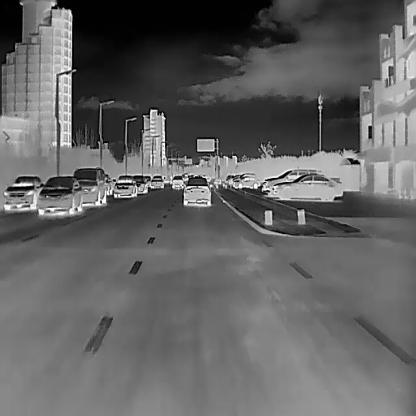car: (271, 173, 343, 201), (36, 175, 81, 214), (2, 172, 41, 212), (72, 165, 107, 205), (260, 169, 322, 188), (182, 176, 209, 207), (110, 174, 135, 197), (234, 175, 260, 188), (131, 175, 148, 193), (149, 174, 164, 188), (170, 175, 183, 187)
